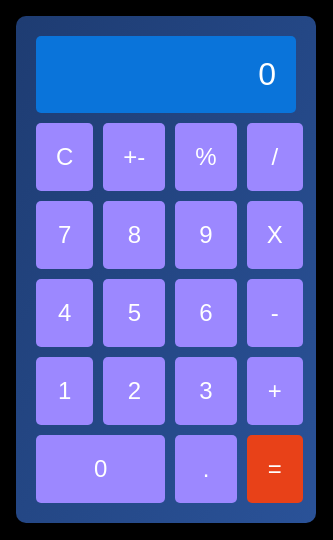
Test: Calculator handles division
The image size is (333, 540).
Step 1. Click the button "8" → (134, 235), box 103,201 -> 165,269
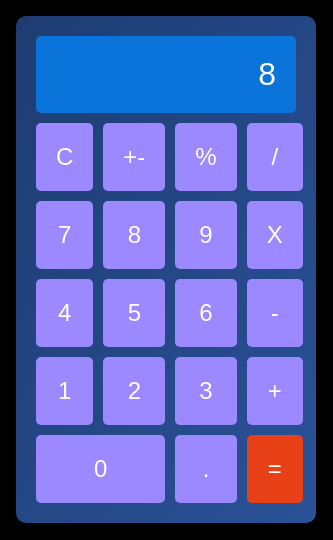
Step 2. Click the button "/" → (275, 157), box 247,123 -> 303,191
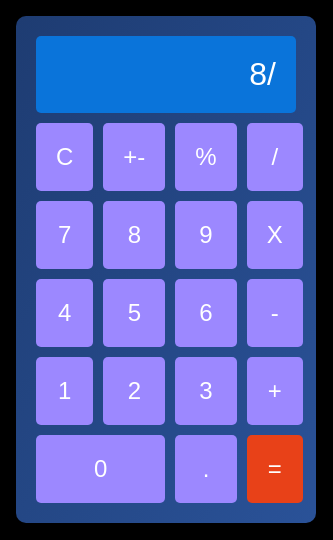
Step 3. Click the button "2" → (134, 391), box 103,357 -> 165,425
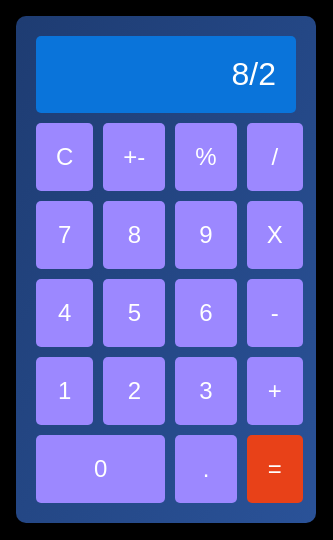
Step 4. Click the button "=" → (275, 469), box 247,435 -> 303,503
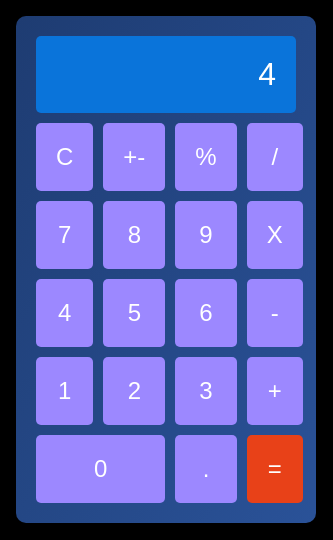
Expected: the text with test id "display" reads "4", 258,56 -> 276,92
